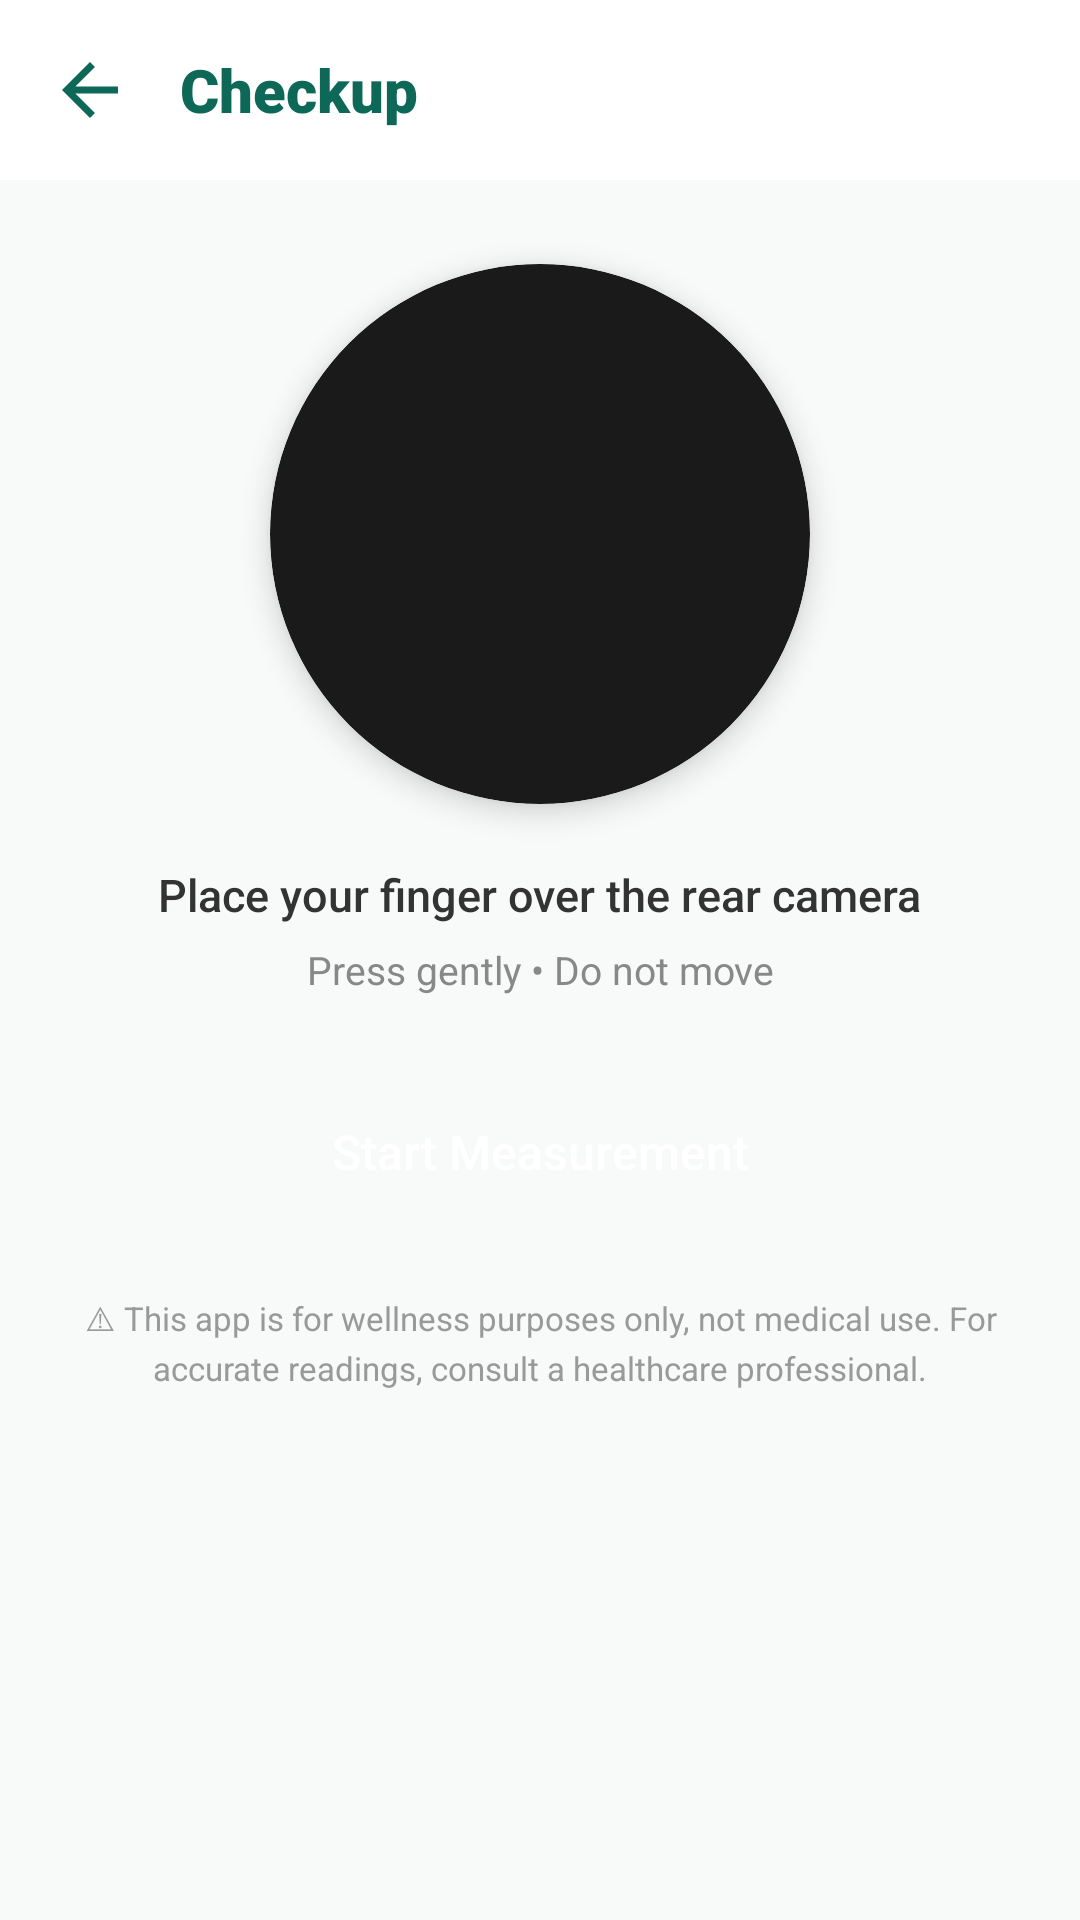

Where icons sit on this 1080w x 1920h app screen, as box(x1, y1, x2, y2):
back: box(62, 62, 118, 118)
